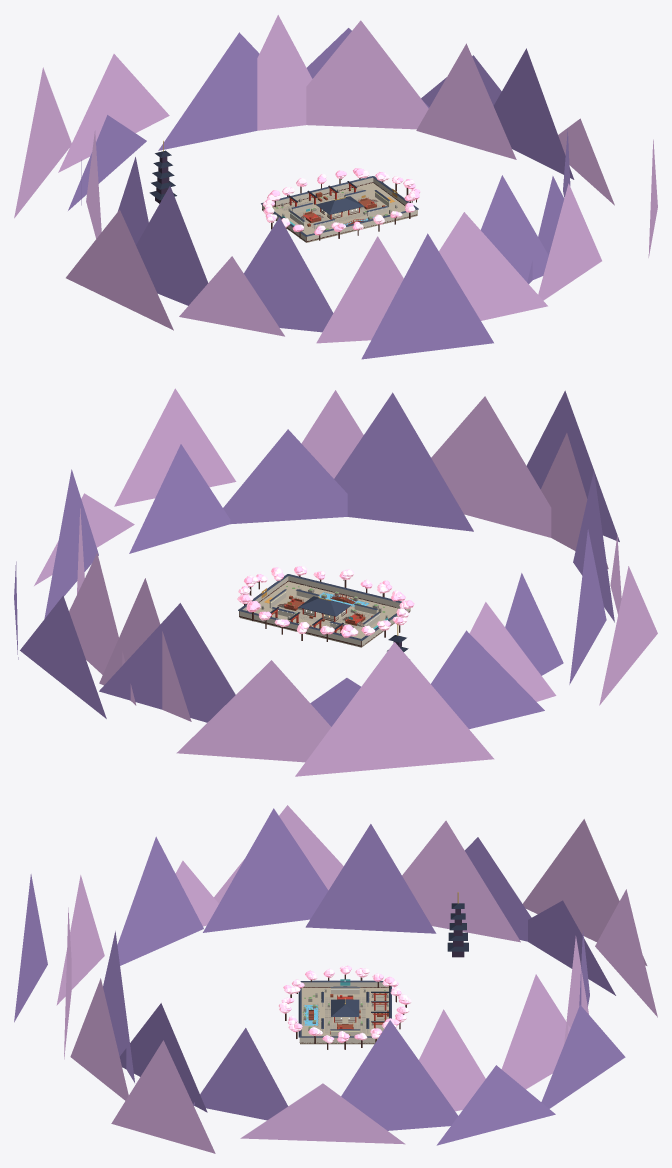
Rendered from sakura_visual.glb.
3 views of the same model, one above another, from view 1: azimuth 30°, elevation 25°; view 2: azimuth 150°, elevation 25°; view 3: azimuth 270°, elevation 25° (orthographic). The views are drawn at different scales.
Visible parts, largest first — view 1: DETAIL_batch, VIS_floor_precinct; view 2: DETAIL_batch, VIS_floor_precinct, VIS_wall_south, VIS_wall_north; view 3: DETAIL_batch, VIS_floor_precinct.
Boxes of the visible parts, x1=… form: DETAIL_batch: x1=14, y1=15, x2=657, y2=359; VIS_floor_precinct: x1=262, y1=183, x2=417, y2=242; DETAIL_batch: x1=14, y1=388, x2=657, y2=776; VIS_floor_precinct: x1=239, y1=581, x2=409, y2=647; VIS_wall_south: x1=288, y1=576, x2=400, y2=608; VIS_wall_north: x1=239, y1=611, x2=361, y2=646; DETAIL_batch: x1=14, y1=805, x2=657, y2=1153; VIS_floor_precinct: x1=300, y1=987, x2=388, y2=1044.
Size of the model in its own units: 298 by 65.08 by 314.
